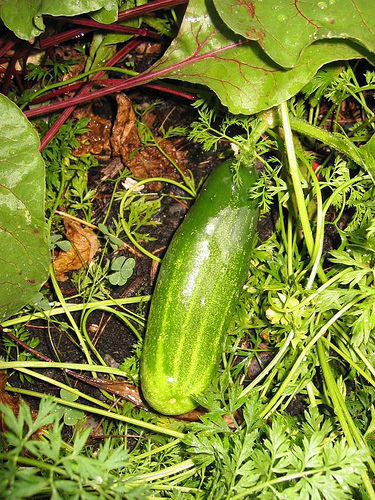cucumber: (137, 156, 262, 417)
